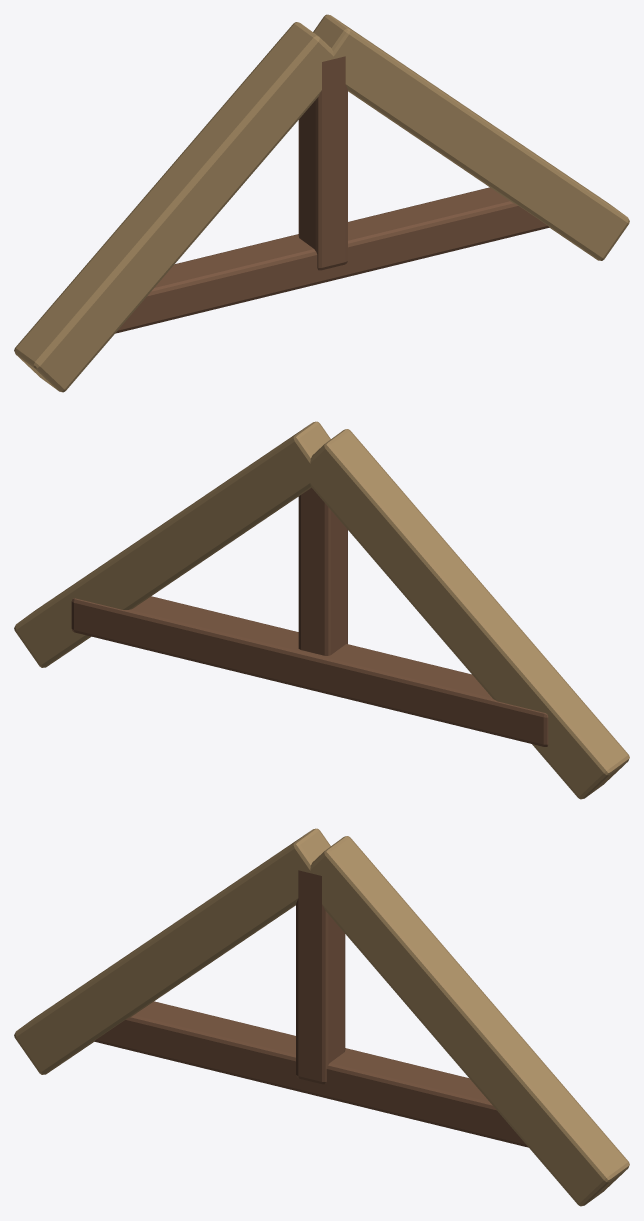
File: gable_end_2m__structure.glb
The picture shows the model from 3 angles, top to bottom: view 1: azimuth 30°, elevation 25°; view 2: azimuth 150°, elevation 25°; view 3: azimuth 330°, elevation 25°; orthographic projection.
Visible parts, largest first — view 1: gable_end_2m__structure__mesh_00; view 2: gable_end_2m__structure__mesh_00; view 3: gable_end_2m__structure__mesh_00.
Part boxes in pixels (x1,y1,x2,y2): gable_end_2m__structure__mesh_00: (14,14,629,392); gable_end_2m__structure__mesh_00: (14,421,629,799); gable_end_2m__structure__mesh_00: (14,828,629,1206).
Size of the model in its own units: 2.62 by 1.24 by 0.19.
